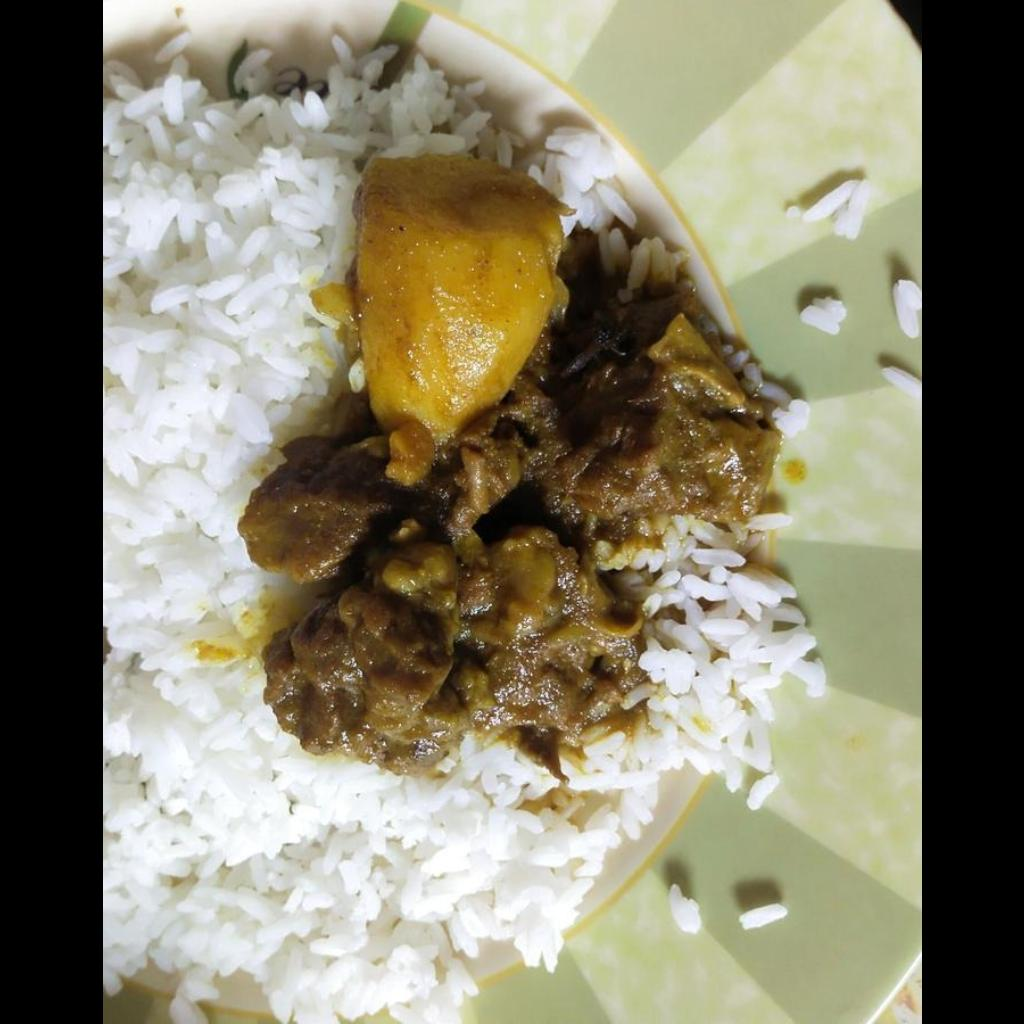beef: (237, 331, 759, 754)
potato: (356, 152, 570, 430)
rice: (102, 43, 823, 1022)
